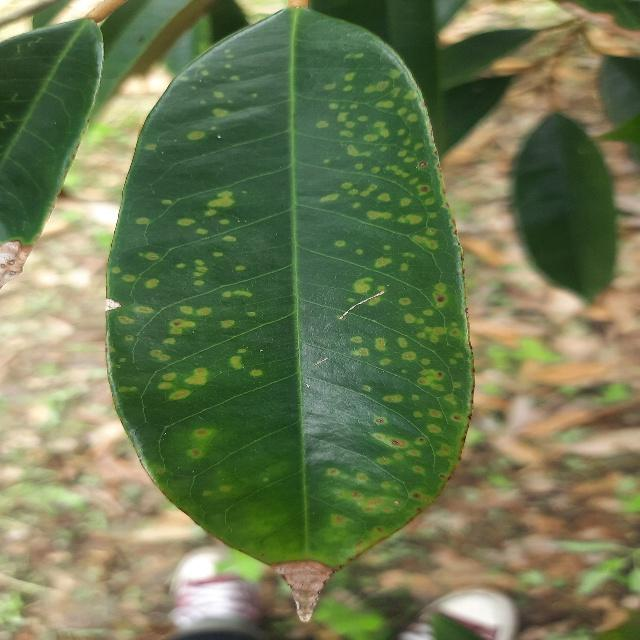Leaf Spot: (90, 0, 487, 619)
